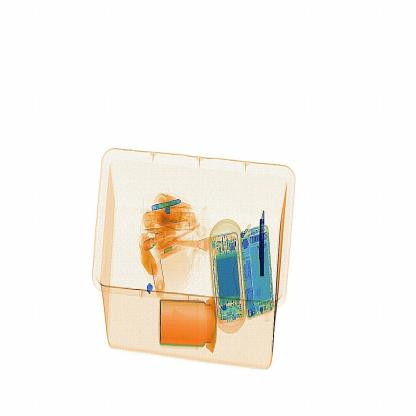pliers: (256, 210, 269, 282)
